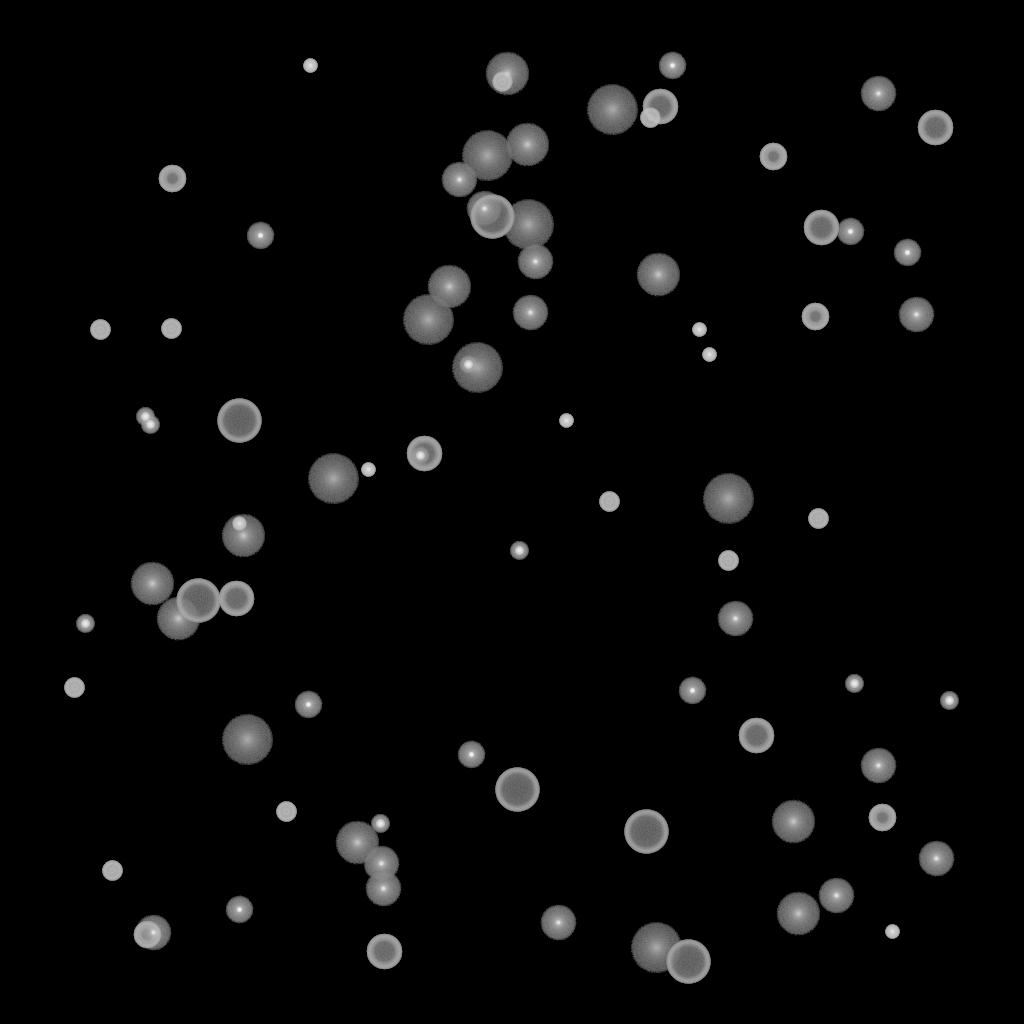depth:-10: (658, 52, 686, 80), (836, 218, 864, 246), (457, 741, 485, 769), (225, 896, 253, 924), (893, 239, 921, 267), (678, 677, 706, 705), (246, 222, 274, 250), (294, 691, 322, 719)
depth:-20: (136, 408, 154, 426), (371, 815, 389, 833), (141, 416, 159, 434), (76, 615, 94, 633), (940, 692, 958, 710), (411, 447, 429, 465), (845, 675, 863, 693), (510, 542, 528, 560), (459, 356, 477, 374)
depth:-30: (559, 414, 573, 428), (361, 463, 375, 477), (692, 323, 706, 337), (885, 925, 899, 939), (232, 517, 246, 531), (702, 348, 716, 362), (303, 59, 317, 73)
depth:-40: (640, 108, 660, 128), (276, 802, 296, 822), (102, 861, 122, 881), (599, 492, 619, 512), (718, 551, 738, 571), (64, 678, 84, 698), (492, 72, 512, 92), (161, 319, 181, 339), (808, 509, 828, 529), (90, 320, 110, 340)
depth:-50: (868, 804, 896, 832), (133, 921, 161, 949), (158, 165, 186, 193), (759, 143, 787, 171), (801, 303, 829, 331)
depth:-60: (642, 89, 678, 125), (366, 934, 402, 970), (803, 210, 839, 246), (738, 718, 774, 754), (218, 581, 254, 617), (917, 110, 953, 146), (406, 436, 442, 472)
depth:-70: (495, 768, 539, 812), (217, 399, 261, 443), (666, 940, 710, 984), (470, 195, 514, 239), (624, 810, 668, 854), (176, 579, 220, 623)
depth:0: (365, 871, 401, 907), (540, 905, 576, 941), (363, 846, 399, 882), (717, 601, 753, 637), (818, 878, 854, 914), (860, 748, 896, 784), (466, 191, 502, 227), (918, 841, 954, 877), (512, 295, 548, 331), (898, 297, 934, 333), (441, 162, 477, 198), (135, 915, 171, 951), (517, 244, 553, 280), (860, 76, 896, 112)
depth:10: (130, 562, 174, 606), (335, 821, 379, 865), (636, 253, 680, 297), (505, 123, 549, 167), (485, 52, 529, 96), (156, 597, 200, 641), (221, 514, 265, 558), (427, 265, 471, 309), (771, 800, 815, 844), (776, 892, 820, 936)
depth:20: (451, 343, 503, 393), (586, 85, 638, 135), (502, 200, 554, 250), (630, 923, 682, 973), (307, 454, 359, 504), (402, 295, 454, 345), (221, 715, 273, 765), (461, 131, 513, 181), (702, 474, 754, 524)
